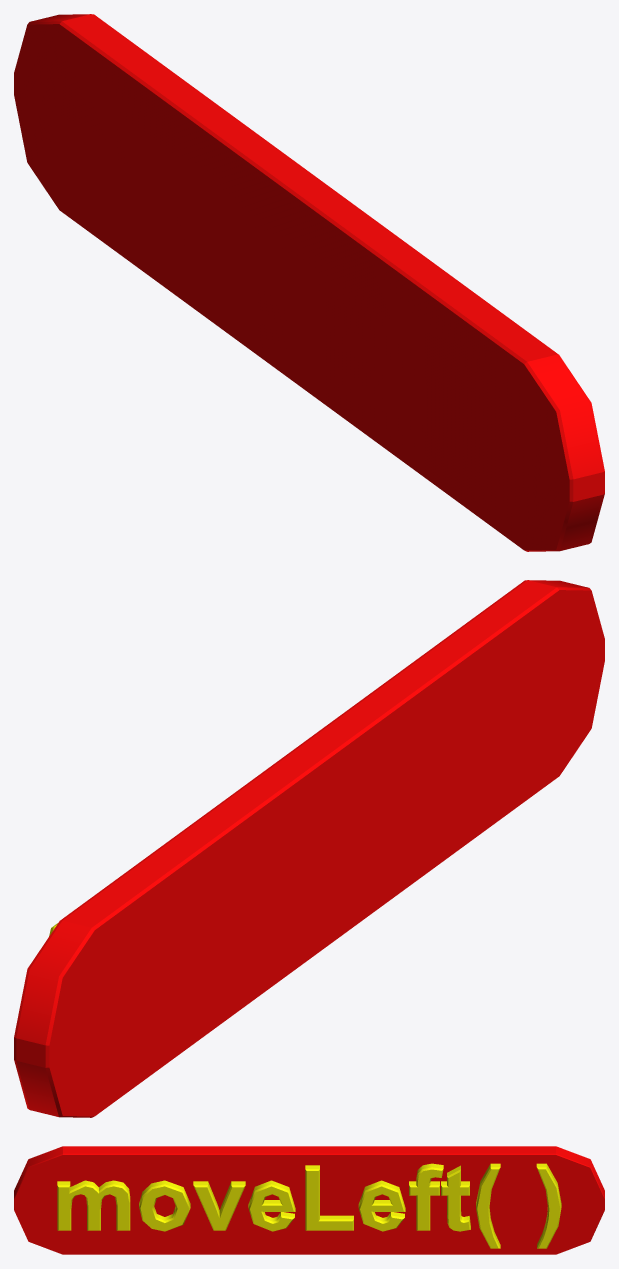
The model's file is moveLeft.FBX.
The picture shows the model from 3 angles, top to bottom: view 1: azimuth 30°, elevation 25°; view 2: azimuth 150°, elevation 25°; view 3: azimuth 270°, elevation 25°; orthographic projection. The views are drawn at different scales.
Visible parts, largest first — view 1: moveLeft; view 2: moveLeft; view 3: moveLeft.
Part boxes in pixels (bbox=[...]): moveLeft: bbox=[14, 14, 604, 551]; moveLeft: bbox=[14, 580, 604, 1117]; moveLeft: bbox=[14, 1146, 604, 1254].
Size of the model in its own units: 111 by 381 by 2025.
